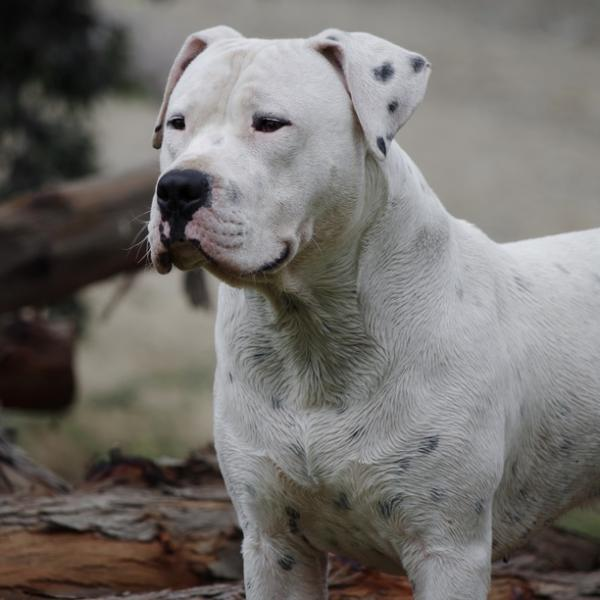dog: (128, 13, 600, 591)
